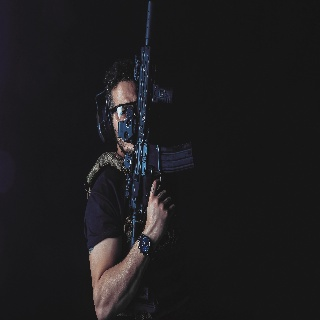rifle: (116, 1, 198, 248)
